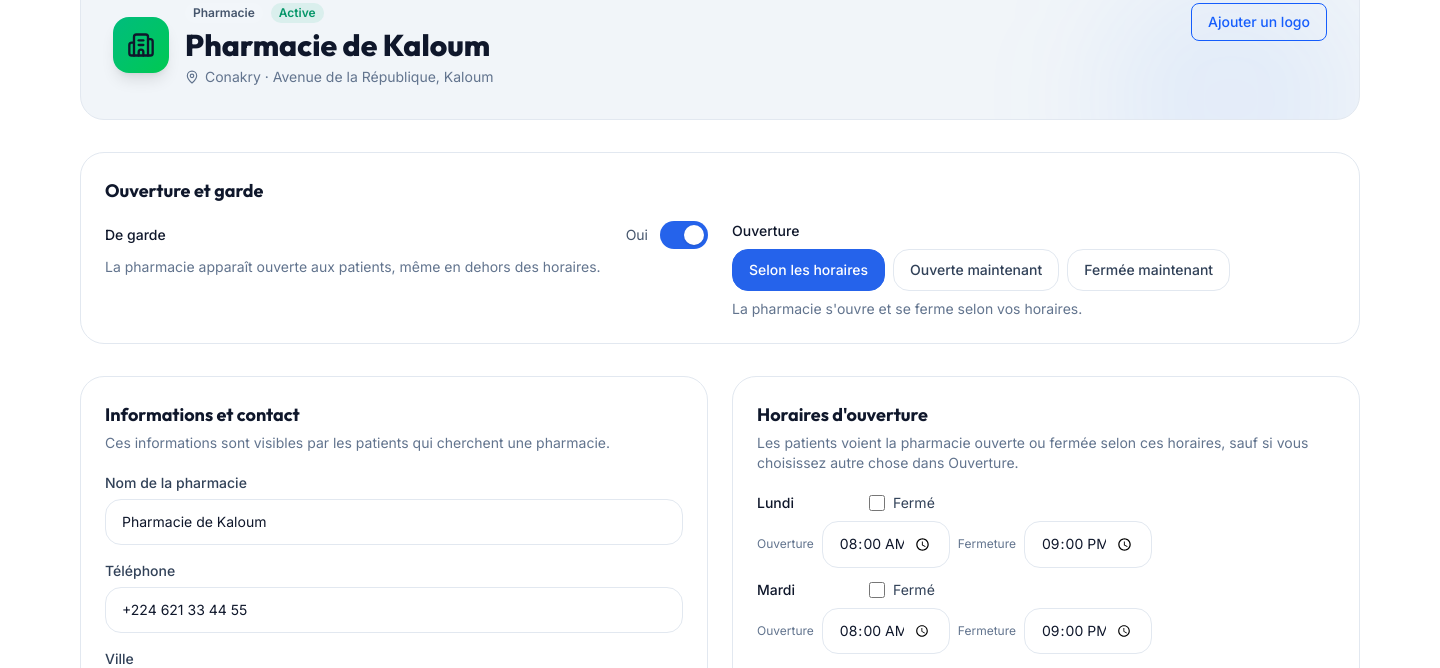
Test: Ma pharmacie › enregistre le bloc Informations et contact avec ses seuls champs
Replace the text in the field labelled "Téléphone" with "+224 621 00 00 00" at (394, 610), box [105,587,683,633]
(page scrolled)
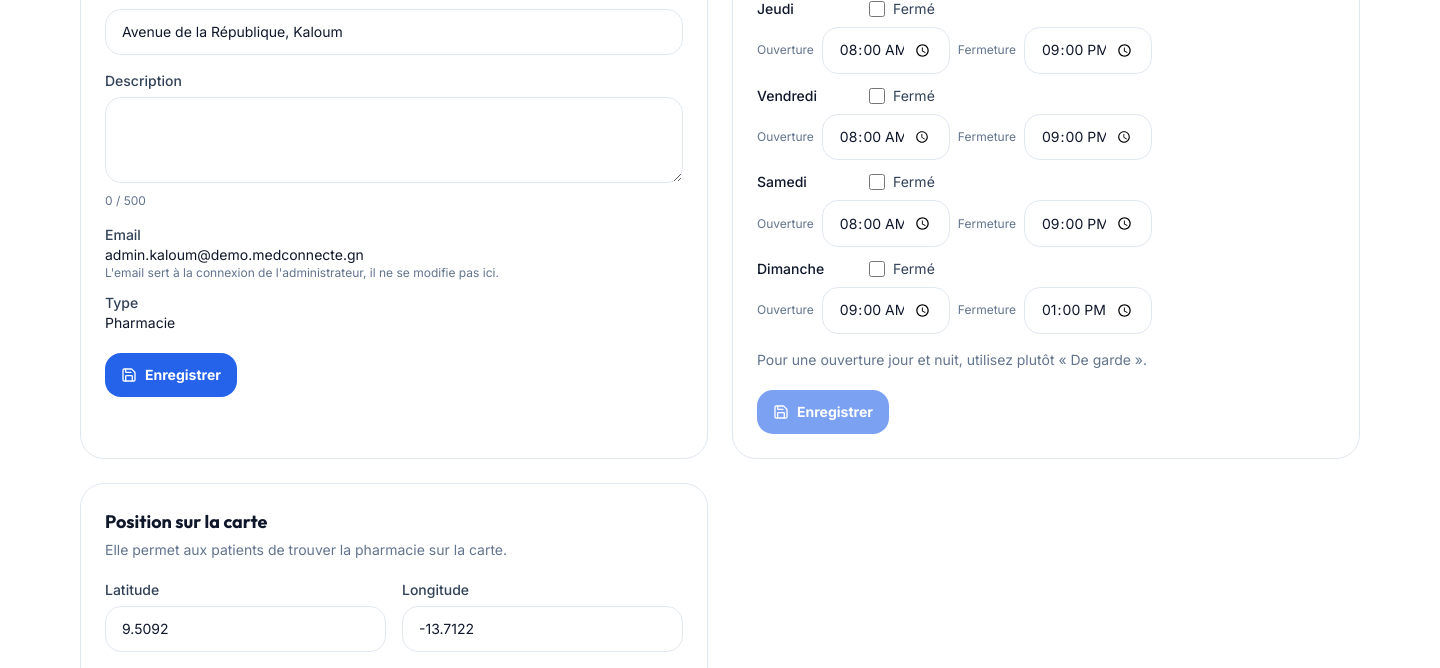
Click the button "Enregistrer" below "Type" at (171, 375), box [105,353,237,397]
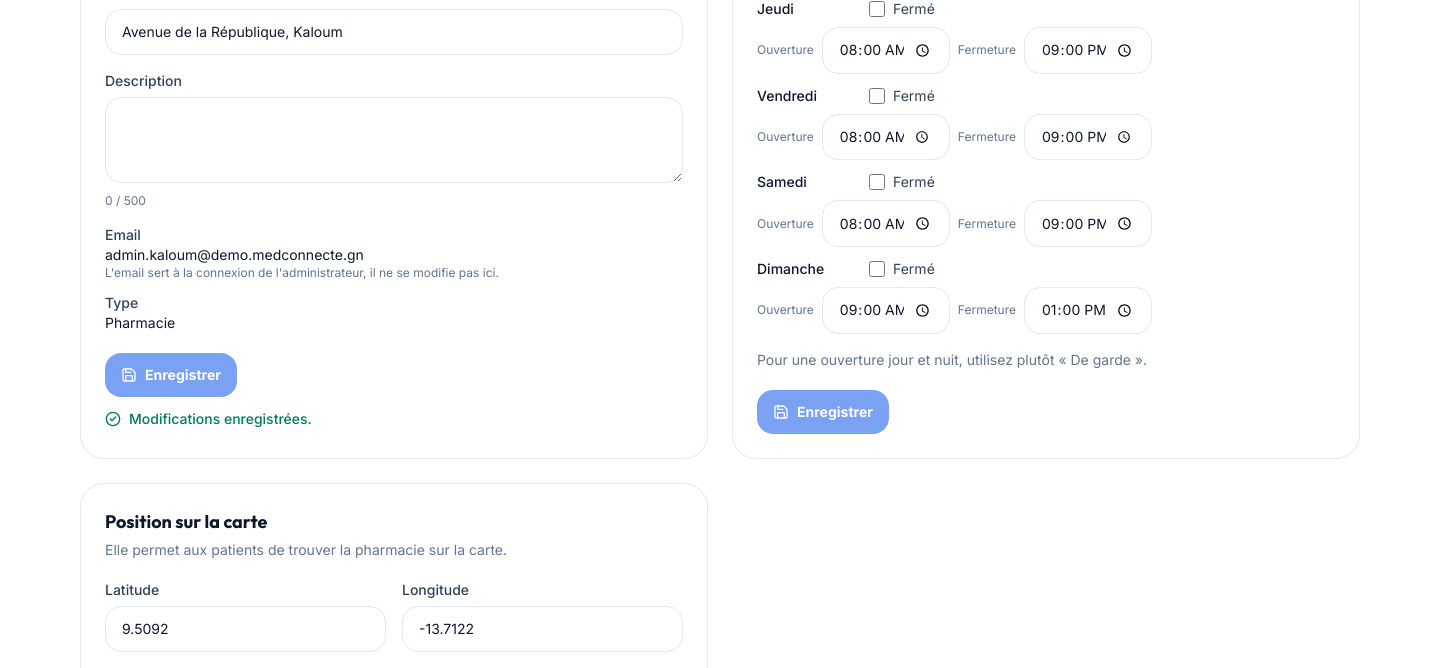
Now the text "Modifications enregistrées." is shown, box [105,410,312,427]
